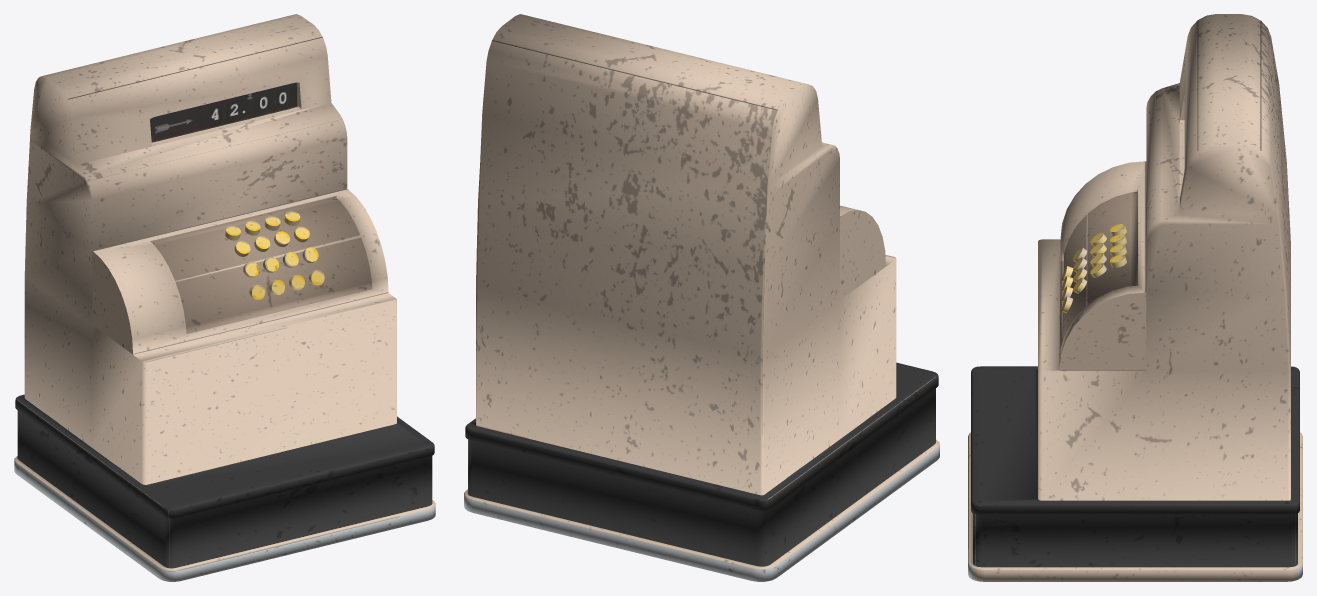
The model's file is cash_register.glb.
The picture shows the model from 3 angles, left to right: view 1: azimuth 30°, elevation 25°; view 2: azimuth 150°, elevation 25°; view 3: azimuth 270°, elevation 25°; orthographic projection. The views are drawn at different scales.
Visible parts, largest first — view 1: Body, Keys; view 2: Body; view 3: Body, Keys.
Part boxes in pixels (box(x1,y1,x2,y2)): Body: box(14, 14, 435, 581); Keys: box(225, 211, 324, 299); Body: box(464, 14, 939, 581); Body: box(968, 14, 1302, 581); Keys: box(1061, 224, 1126, 313).
Bounding box in the file's own units: 1.96 × 2.78 × 1.96.
1 material, 1 textured.
